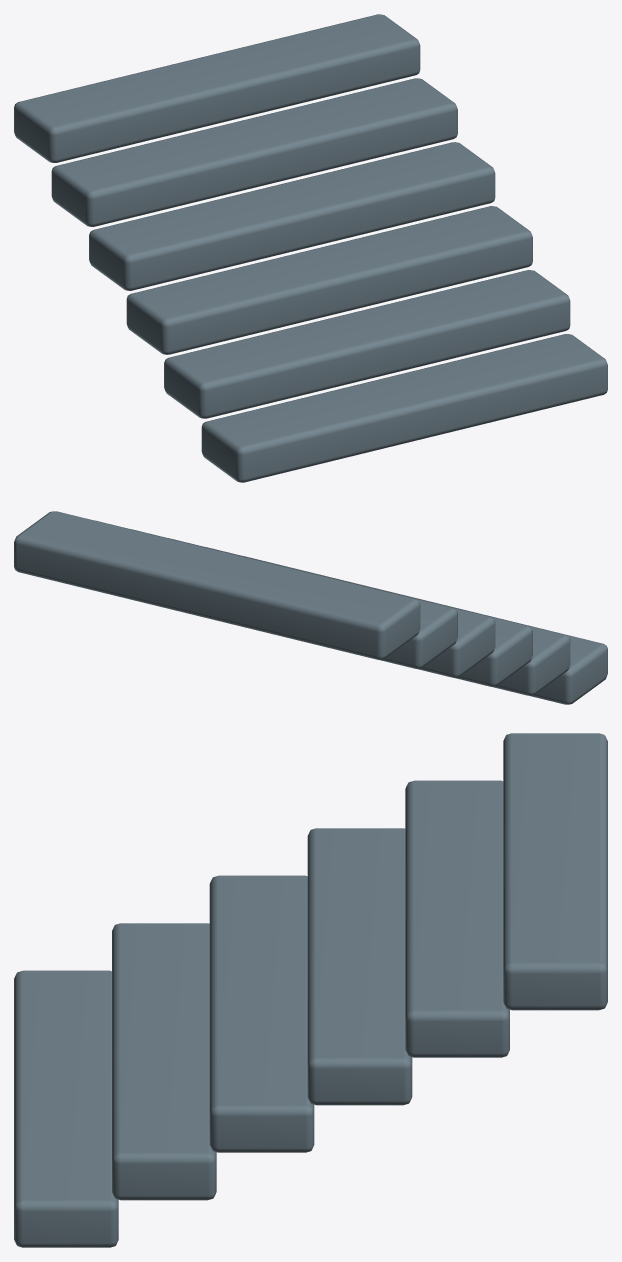
The model's file is SM_FE_Stairs.fbx.
3 renders of one model, top to bottom at view 1: azimuth 30°, elevation 25°; view 2: azimuth 150°, elevation 25°; view 3: azimuth 270°, elevation 25°, orthographic. The views are drawn at different scales.
Visible parts, largest first — view 1: SM_FE_Stairs; view 2: SM_FE_Stairs; view 3: SM_FE_Stairs.
Boxes of the visible parts, left/top/right/bottom form: SM_FE_Stairs: left=14, top=14, right=607, bottom=482; SM_FE_Stairs: left=14, top=511, right=607, bottom=704; SM_FE_Stairs: left=14, top=733, right=607, bottom=1247.
Bounding box in the file's own units: 160 × 170 × 90.
